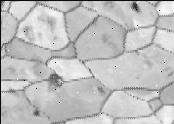good_void: (36, 13, 57, 33), (21, 24, 36, 40), (48, 72, 63, 87), (158, 65, 173, 76), (129, 0, 138, 11), (96, 85, 106, 94), (32, 108, 39, 115), (9, 89, 15, 91)
